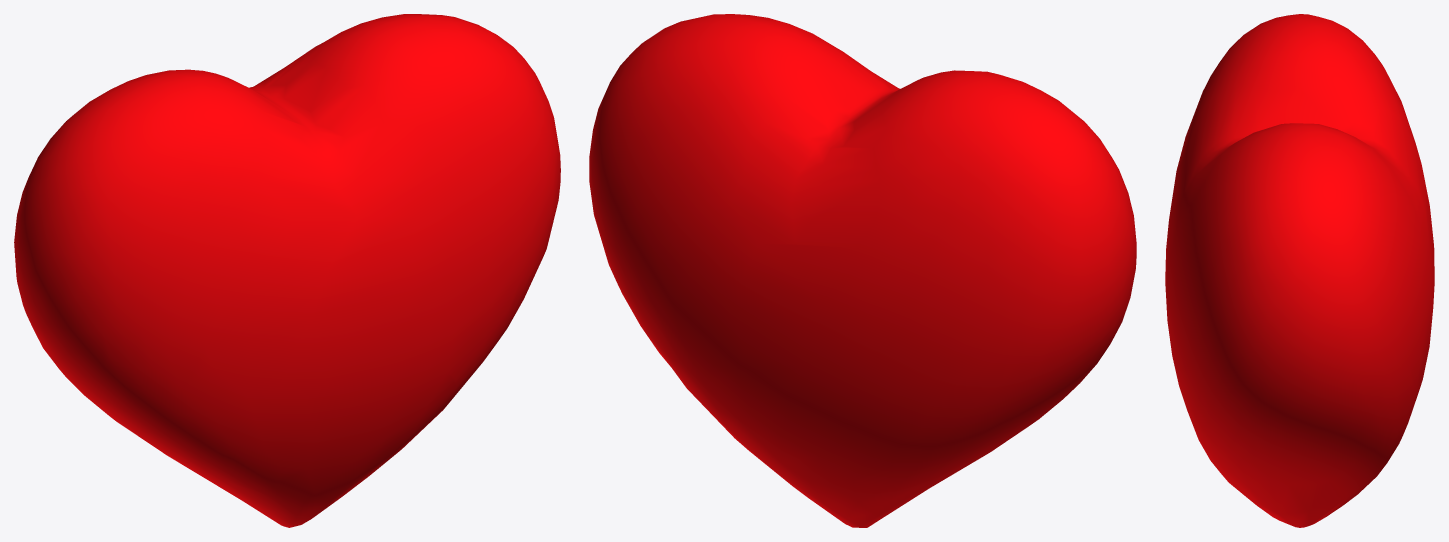
File: nile-heart.glb
3 views of the same model, side by side, from view 1: azimuth 30°, elevation 25°; view 2: azimuth 150°, elevation 25°; view 3: azimuth 270°, elevation 25° (orthographic). The views are drawn at different scales.
Visible parts, largest first — view 1: Cartoon Heart Icon; view 2: Cartoon Heart Icon; view 3: Cartoon Heart Icon.
Boxes of the visible parts, x1,y1,x2,y2 form: Cartoon Heart Icon: [14, 14, 560, 527]; Cartoon Heart Icon: [589, 14, 1136, 527]; Cartoon Heart Icon: [1165, 14, 1434, 527].
Bounding box in the file's own units: 0.8324 × 0.7282 × 0.4009.
